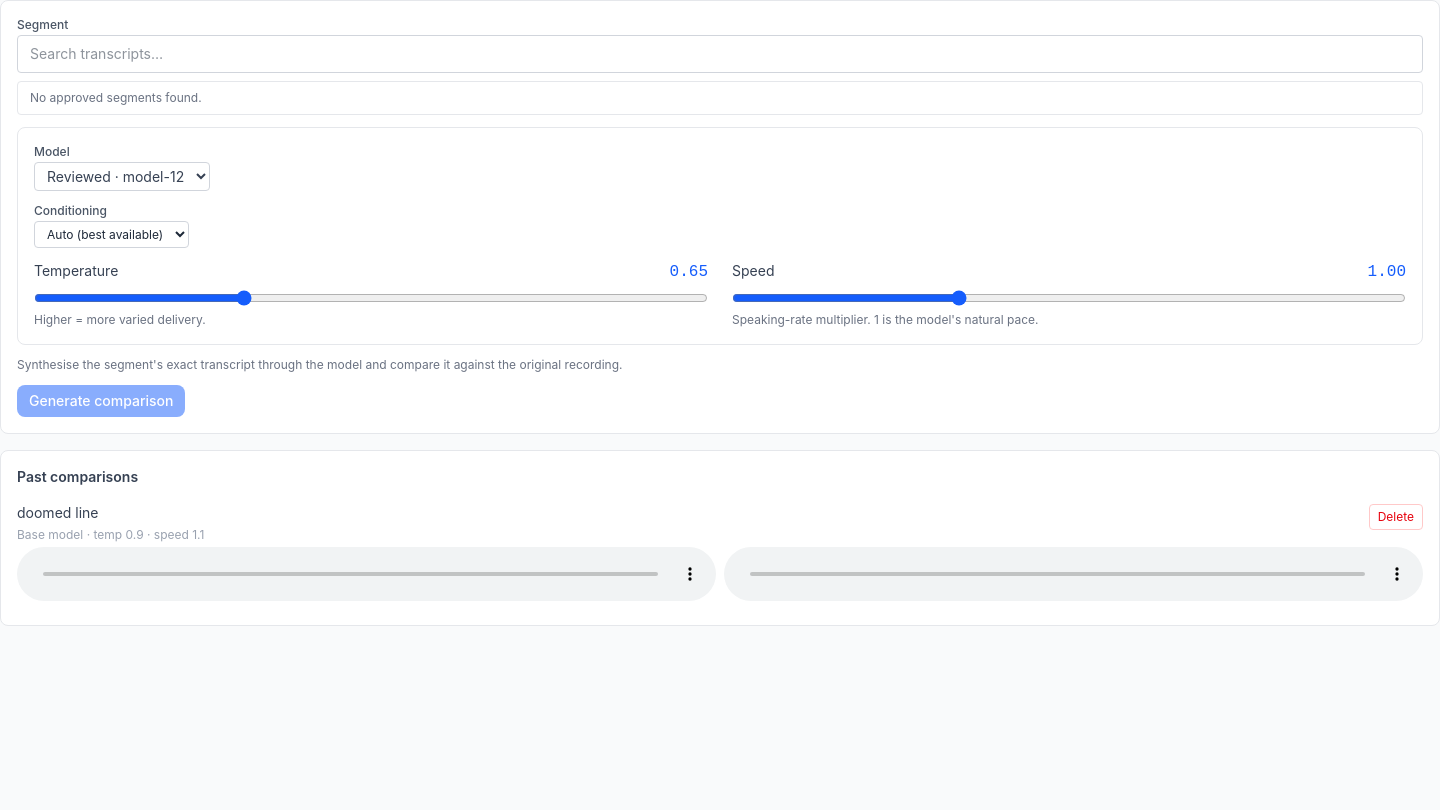
Test case: ComparePanel › deletes a past comparison and reloads the history
Check: the text "doomed line" is shown, box [17,504,98,521]
Click the button "Delete".
click(1396, 517)  # box [1369,504,1423,530]
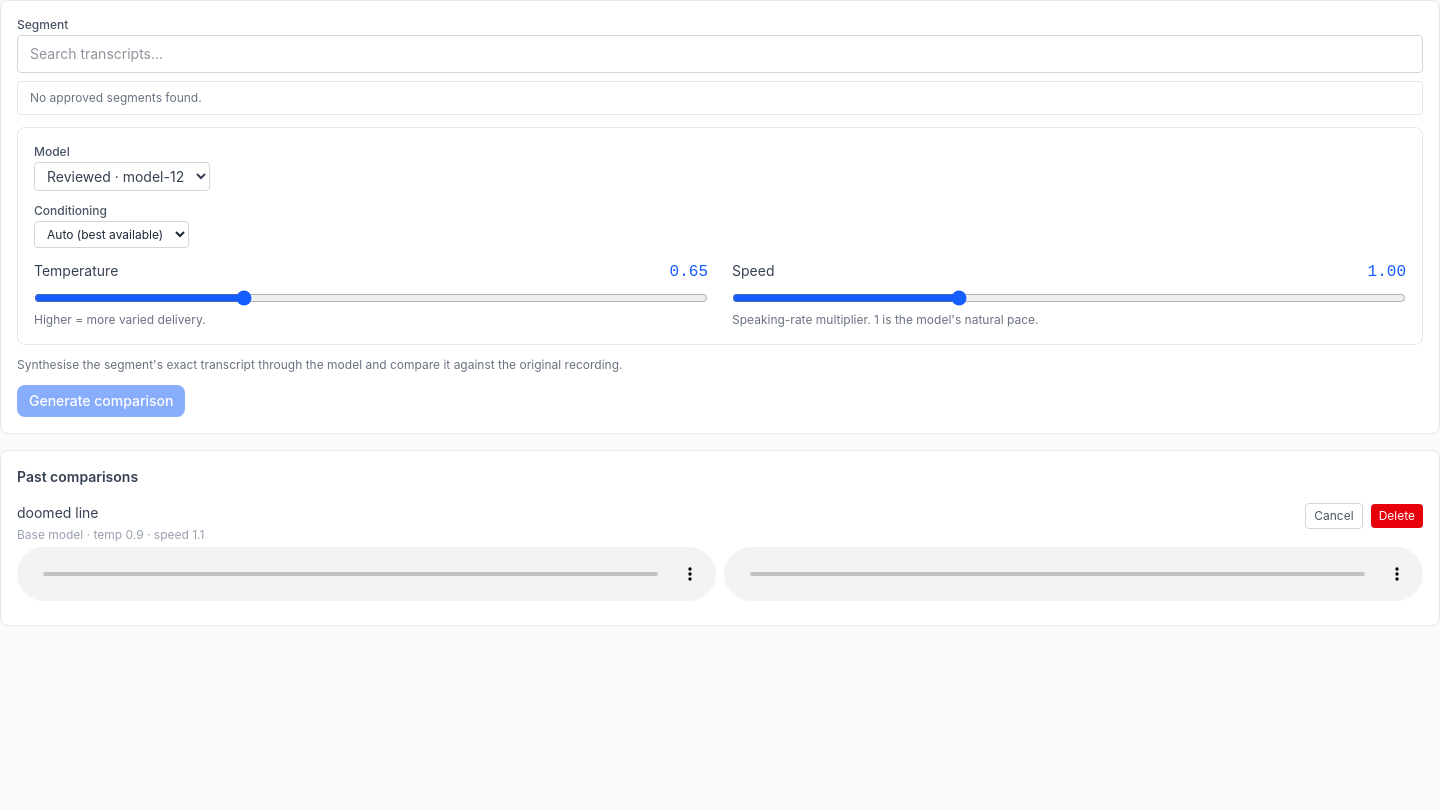
Click the button "Delete".
click(1397, 516)  # box [1371,504,1423,528]
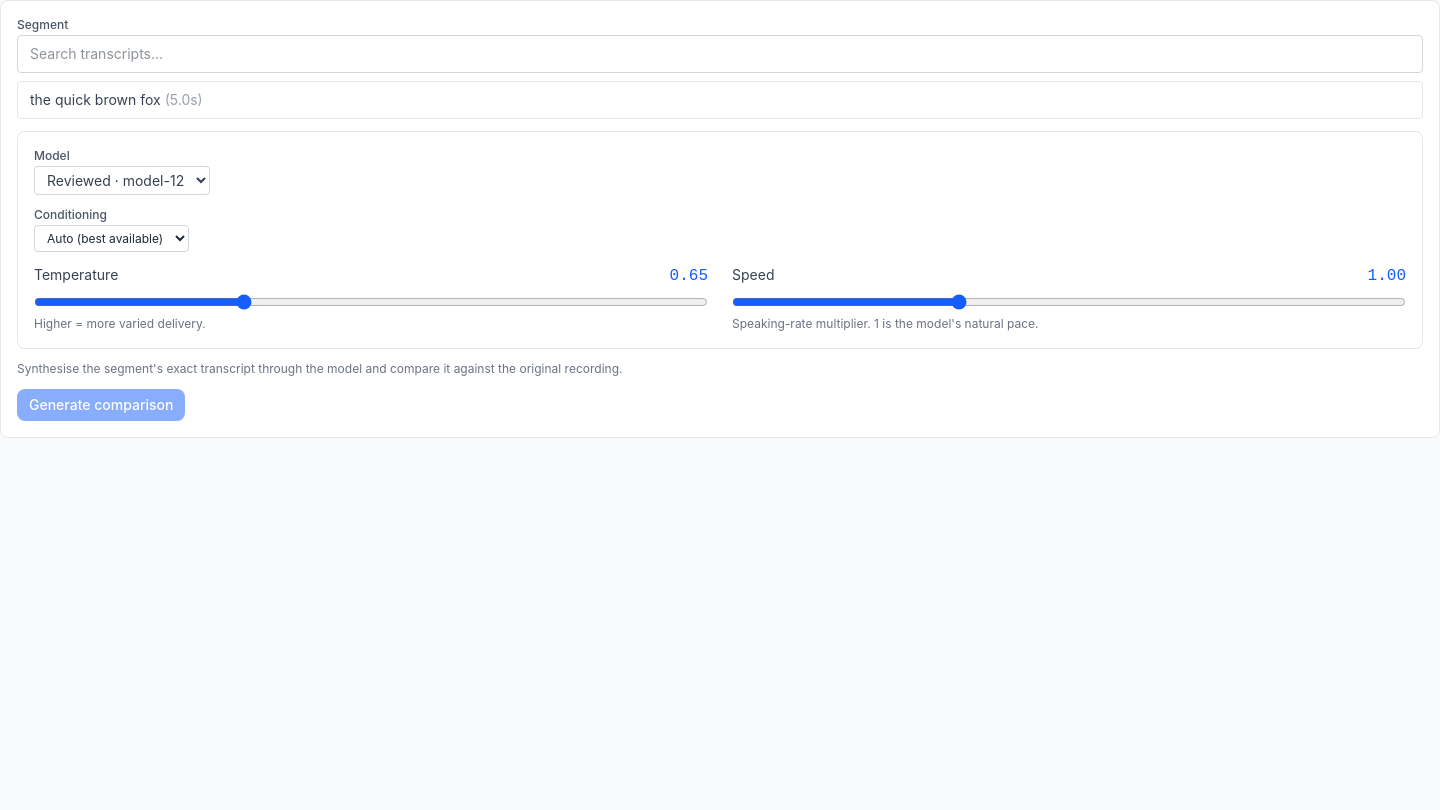
Check: the text "doomed line" is gone
